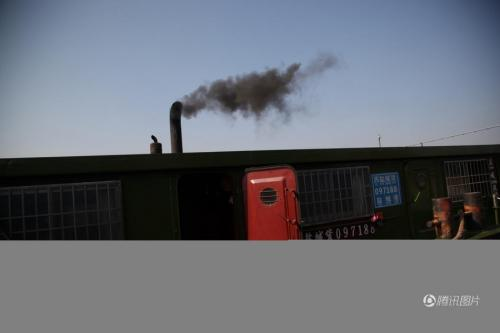smoke: (183, 51, 344, 124)
